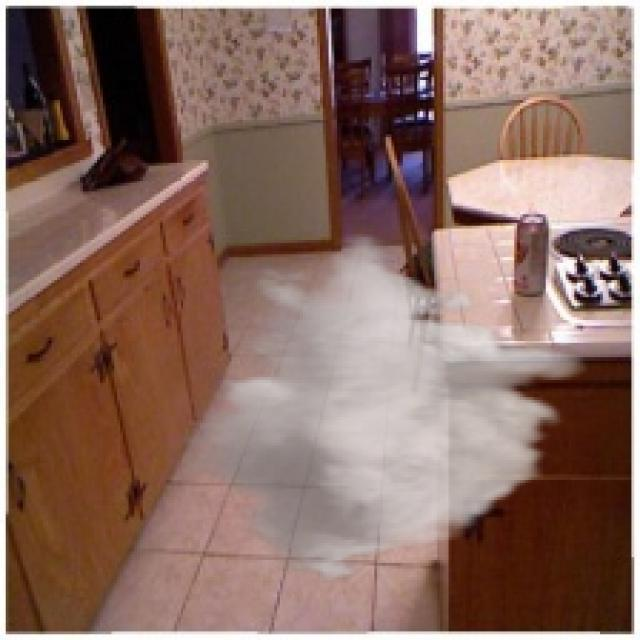Smoke: (177, 231, 592, 583)
